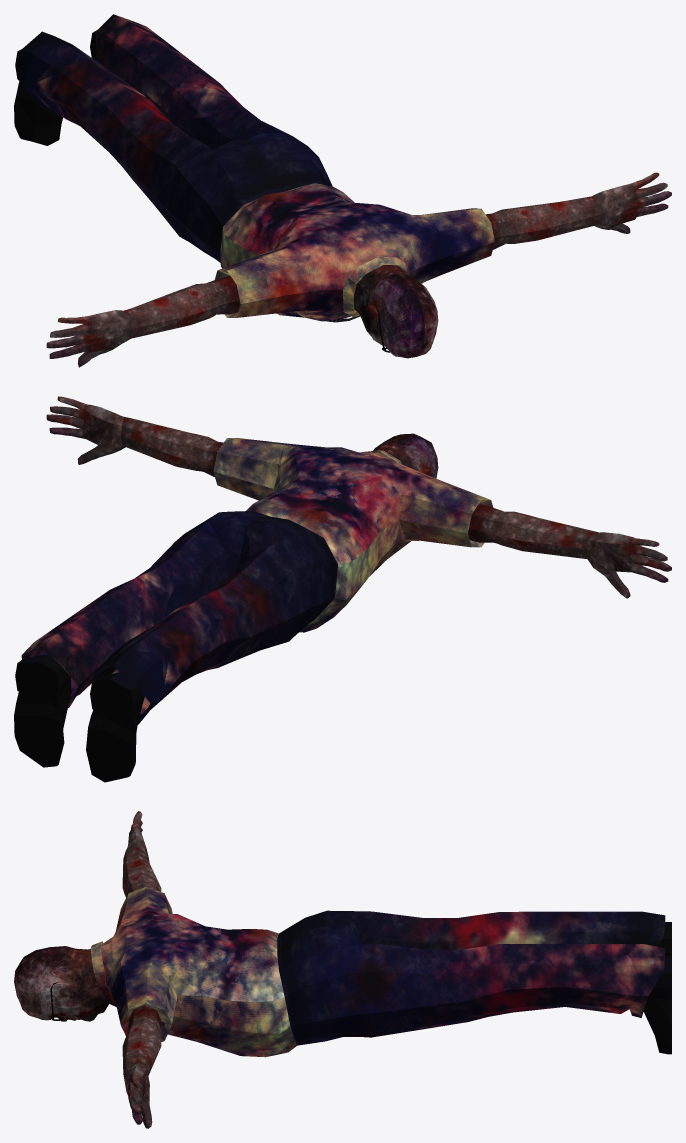
File: tomdrinman2_3ksnowed_wtf.obj
3 renders of one model, top to bottom at view 1: azimuth 30°, elevation 25°; view 2: azimuth 150°, elevation 25°; view 3: azimuth 270°, elevation 25°, orthographic. The views are drawn at different scales.
Visible parts, largest first — view 1: group1; view 2: group1; view 3: group1.
Boxes of the visible parts, bbox=[...] form: group1: bbox=[14, 14, 671, 367]; group1: bbox=[14, 396, 671, 782]; group1: bbox=[14, 811, 671, 1128].
Bounding box in the file's own units: 660 × 141 × 641.
